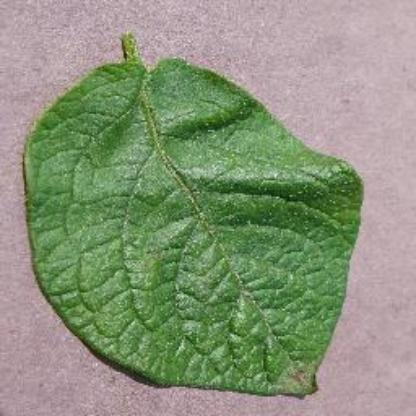Healthy-plant: (18, 29, 364, 398)
